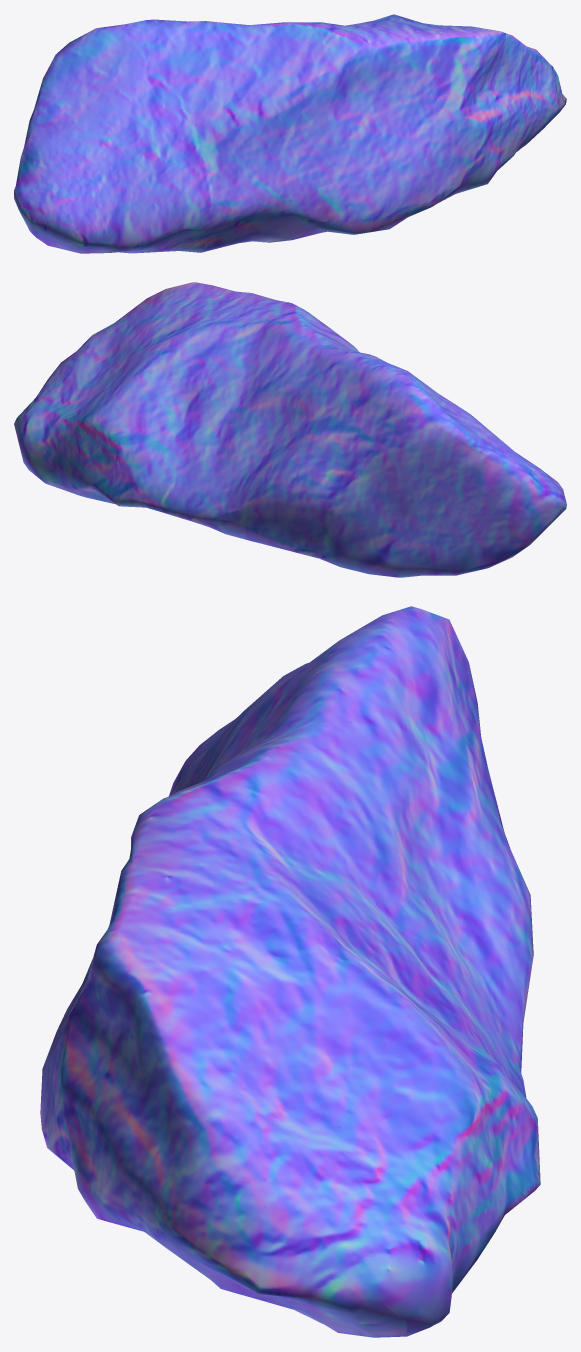
The model's file is Rock003 Moss Variant.fbx.
3 renders of one model, top to bottom at view 1: azimuth 30°, elevation 25°; view 2: azimuth 150°, elevation 25°; view 3: azimuth 270°, elevation 25°, orthographic. The views are drawn at different scales.
Parts seen in each view (by area): view 1: Rock03_LOD0; view 2: Rock03_LOD0; view 3: Rock03_LOD0.
Boxes of the visible parts, x1=… form: Rock03_LOD0: x1=14, y1=14, x2=566, y2=253; Rock03_LOD0: x1=14, y1=282, x2=566, y2=577; Rock03_LOD0: x1=40, y1=606, x2=540, y2=1337.
Size of the model in its own units: 134 by 50.31 by 55.44.
